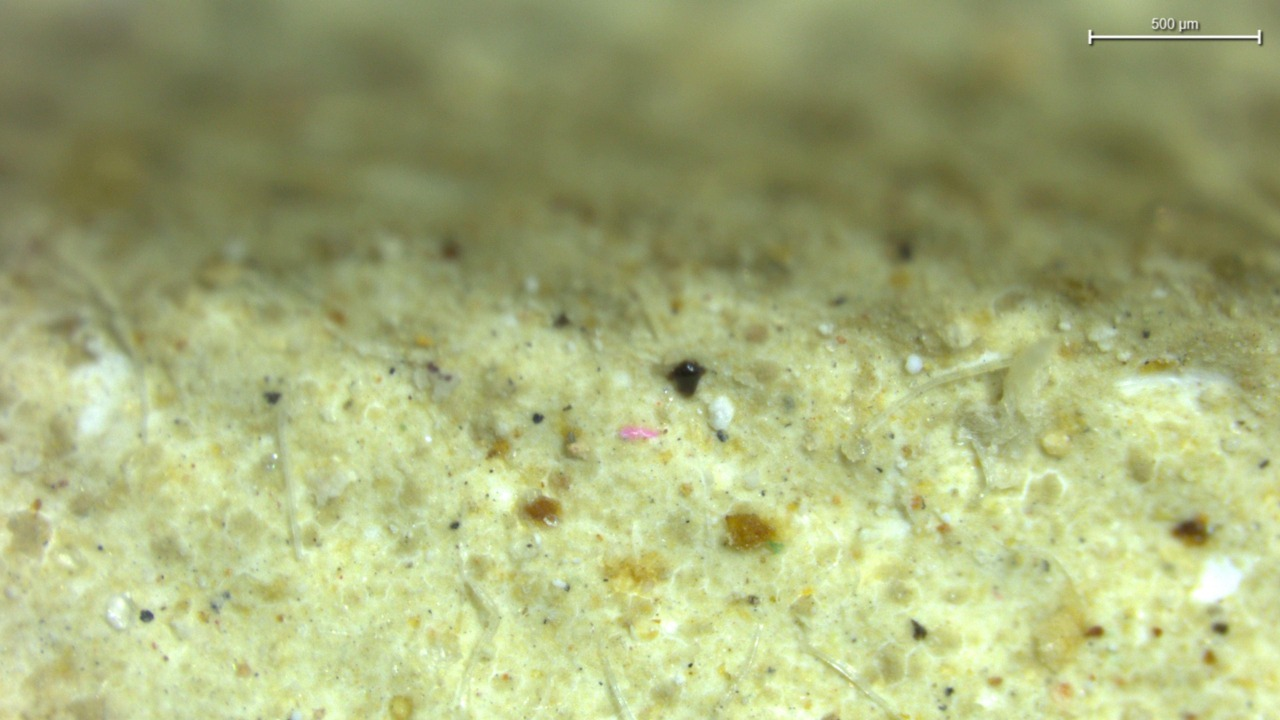microplastic_fragment: (618, 426, 660, 441)
